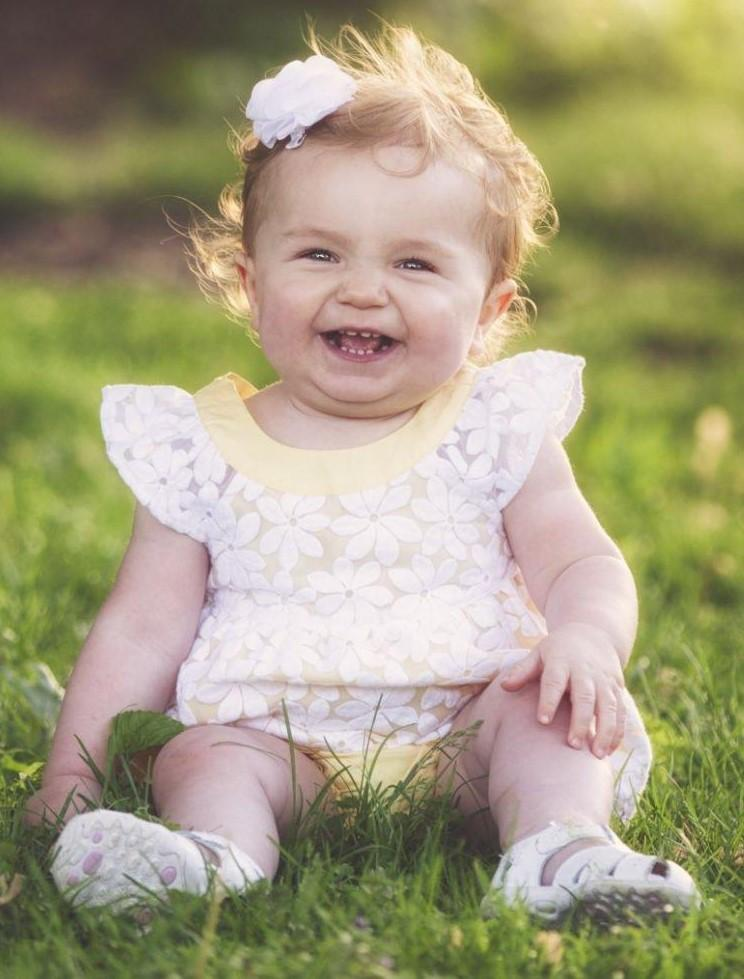Healthy: (201, 68, 554, 459)
